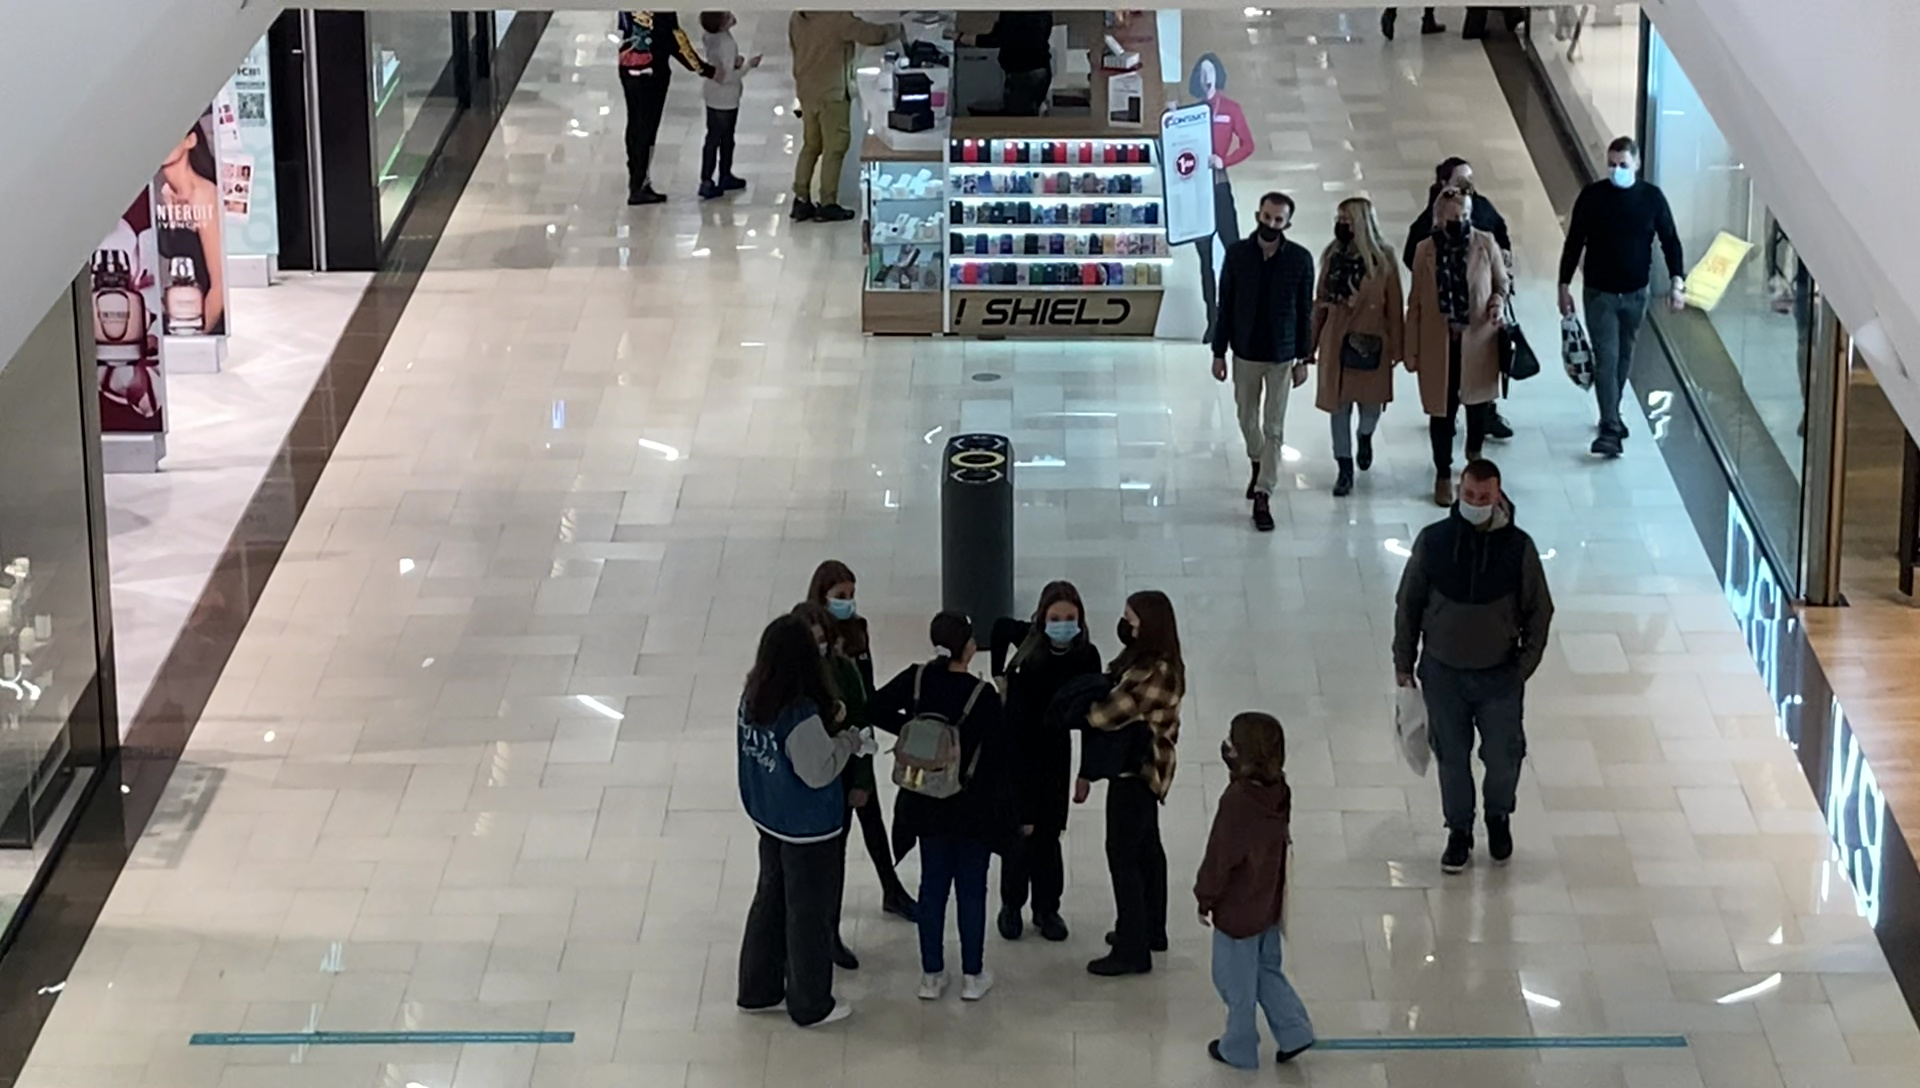person: (1394, 461, 1556, 876), (736, 620, 856, 1024), (884, 611, 1005, 999), (1194, 714, 1319, 1069), (1556, 138, 1690, 458), (990, 582, 1102, 946), (1086, 588, 1187, 974), (1211, 194, 1312, 530), (1403, 192, 1511, 501), (1313, 198, 1406, 499), (786, 9, 865, 221), (610, 10, 687, 209), (696, 9, 760, 201)
